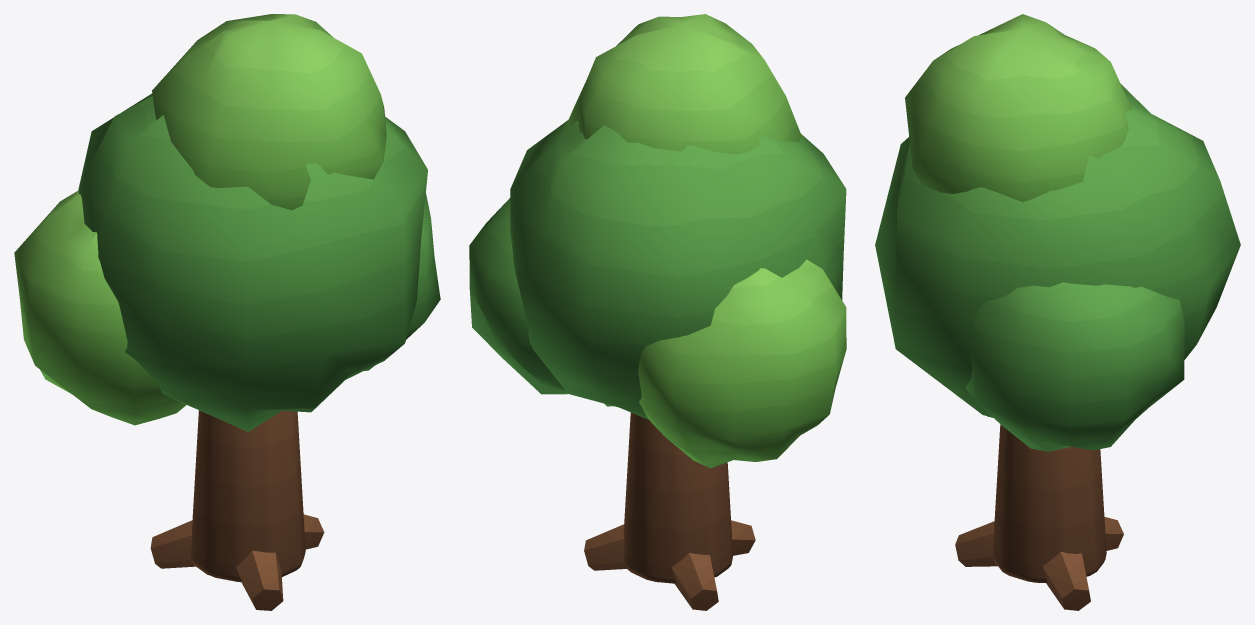
Rendered from treeB.glb.
3 views of the same model, side by side, from view 1: azimuth 30°, elevation 25°; view 2: azimuth 150°, elevation 25°; view 3: azimuth 270°, elevation 25° (orthographic). The views are drawn at different scales.
Parts seen in each view (by area): view 1: treeB; view 2: treeB; view 3: treeB.
Boxes of the visible parts, <box> form: treeB: <box>14,14,440,610</box>; treeB: <box>469,14,846,610</box>; treeB: <box>875,14,1240,610</box>.
Bounding box in the file's own units: 0.8043 × 1.13 × 0.6775.
Materials: 1 (1 with a texture image).
